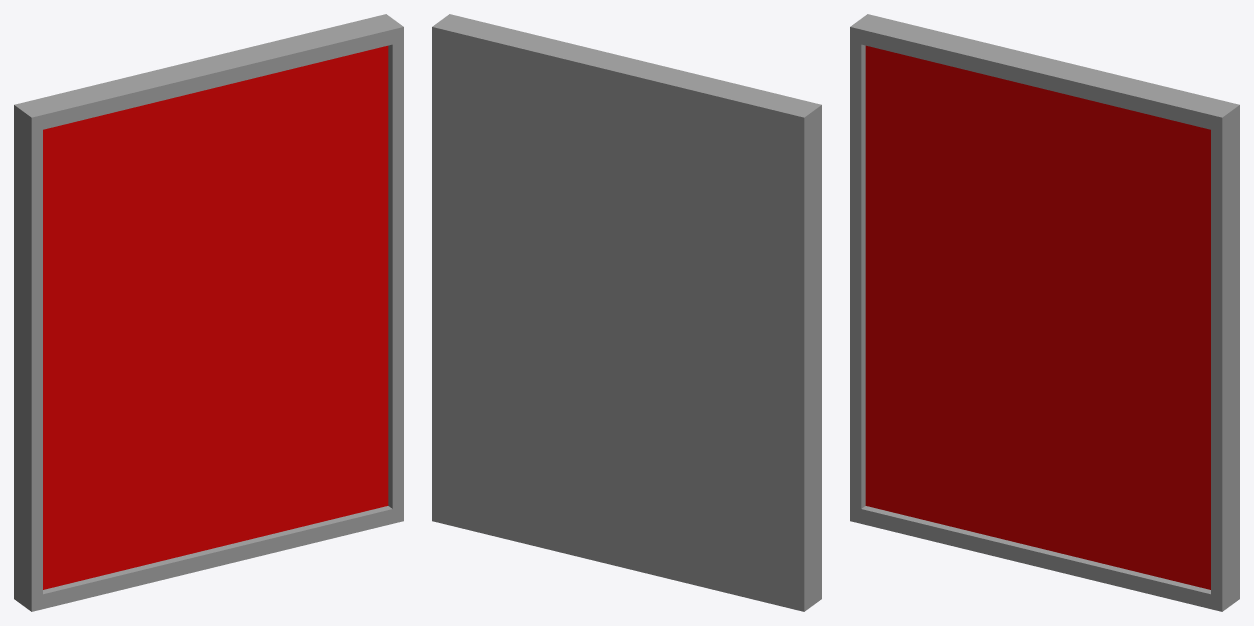
The model's file is Pictureframe.fbx.
The picture shows the model from 3 angles, left to right: view 1: azimuth 30°, elevation 25°; view 2: azimuth 150°, elevation 25°; view 3: azimuth 330°, elevation 25°; orthographic projection.
Visible parts, largest first — view 1: pCube1; view 2: pCube1; view 3: pCube1.
Boxes of the visible parts, x1,y1,x2,y2 form: pCube1: (14,14,403,611); pCube1: (432,14,821,611); pCube1: (850,14,1239,611).
Bounding box in the file's own units: 8.2 × 10.4 × 0.6704.
